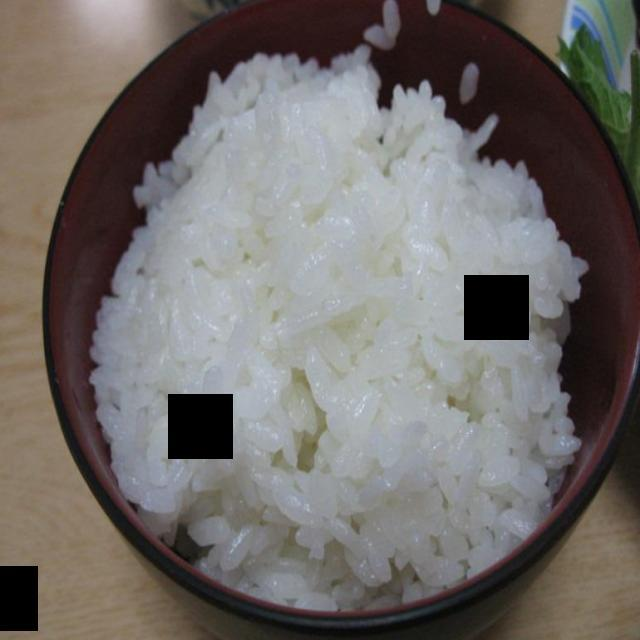rice: (92, 49, 586, 613)
